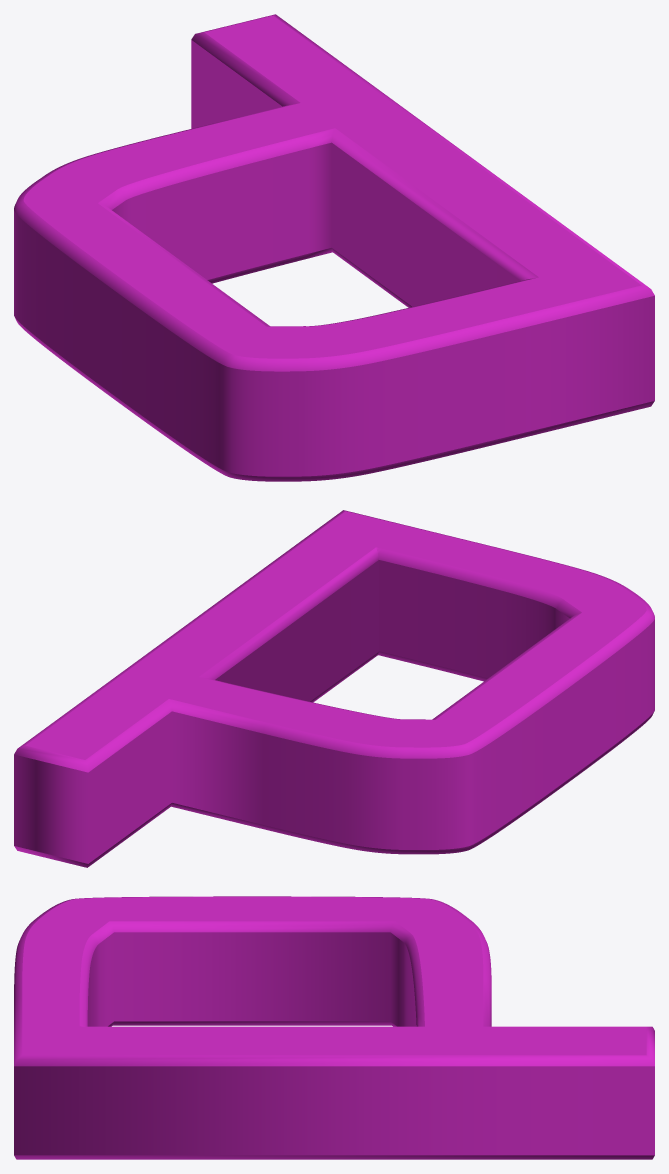
The model's file is Letter_p_CoolFont.fbx.
The picture shows the model from 3 angles, top to bottom: view 1: azimuth 30°, elevation 25°; view 2: azimuth 150°, elevation 25°; view 3: azimuth 270°, elevation 25°; orthographic projection. The views are drawn at different scales.
Visible parts, largest first — view 1: Letter_p; view 2: Letter_p; view 3: Letter_p.
Part boxes in pixels (<box>): Letter_p: <box>14,14,654,481</box>; Letter_p: <box>14,510,654,867</box>; Letter_p: <box>14,896,654,1159</box>.
Bounding box in the file's own units: 0.4777 × 0.14 × 0.7821.
